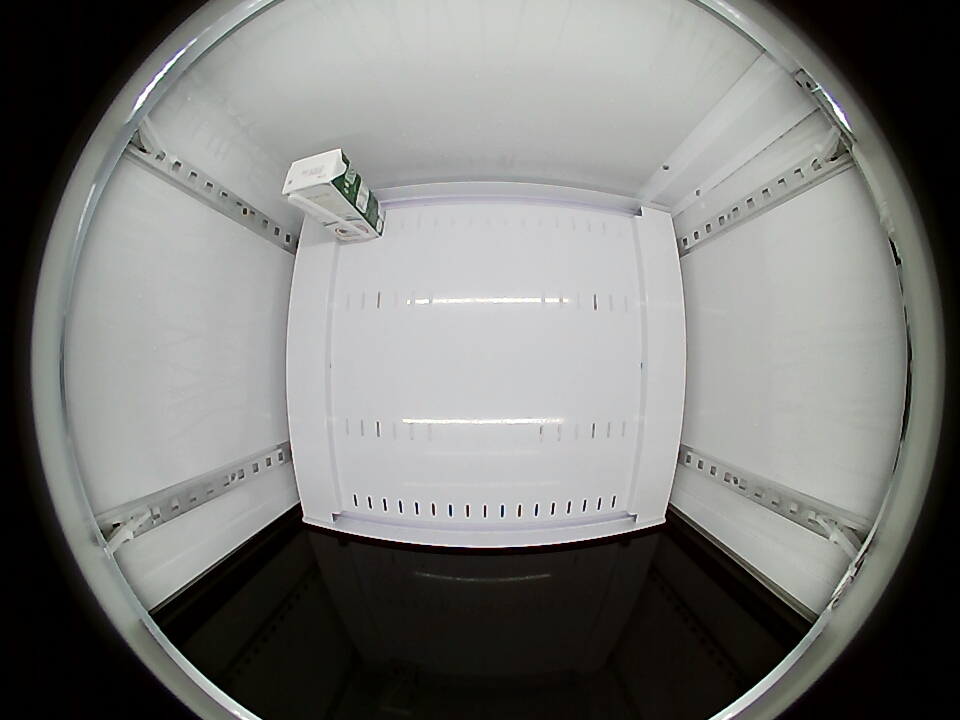jindian: (281, 147, 356, 210)
